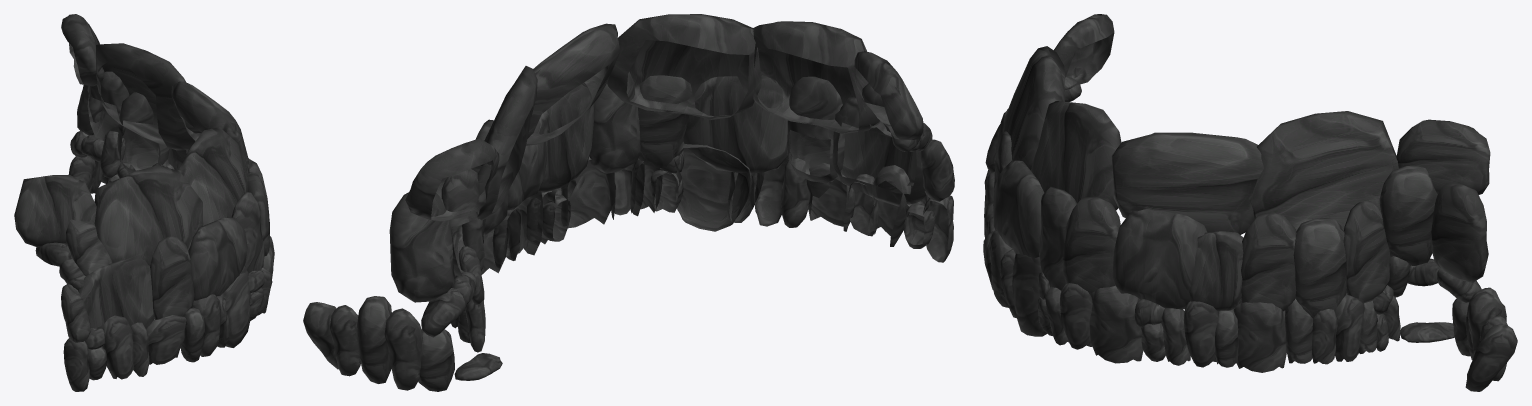
The model's file is rootIslandRocksMainShape2.dae.
The picture shows the model from 3 angles, left to right: view 1: azimuth 30°, elevation 25°; view 2: azimuth 150°, elevation 25°; view 3: azimuth 270°, elevation 25°; orthographic projection. The views are drawn at different scales.
Visible parts, largest first — view 1: rootIslandRocksMain2; view 2: rootIslandRocksMain2; view 3: rootIslandRocksMain2.
Part boxes in pixels (<box>): rootIslandRocksMain2: <box>14,14,274,391</box>; rootIslandRocksMain2: <box>303,14,954,391</box>; rootIslandRocksMain2: <box>983,14,1517,391</box>.
Size of the model in its own units: 74.8 by 46.16 by 94.54.
